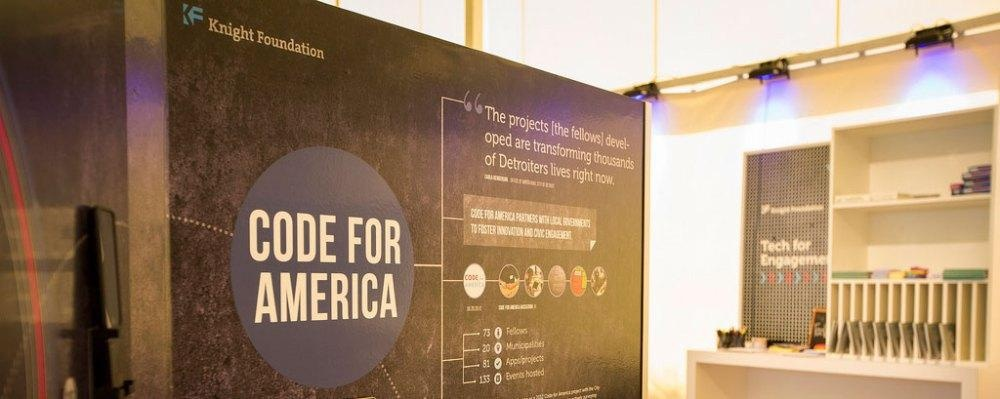text: (247, 209, 262, 265), (263, 209, 278, 265), (279, 209, 294, 265), (295, 209, 310, 265), (311, 209, 326, 265), (327, 209, 342, 265), (258, 270, 273, 326), (274, 270, 289, 326), (290, 270, 305, 326), (306, 270, 321, 326), (322, 270, 337, 326), (338, 270, 353, 326), (354, 270, 369, 326), (370, 270, 385, 326), (386, 270, 401, 326), (344, 216, 359, 265), (360, 216, 375, 265), (376, 216, 391, 265), (392, 216, 407, 265), (199, 15, 214, 49), (215, 15, 230, 49), (231, 15, 246, 49), (247, 15, 262, 49), (253, 30, 268, 63), (269, 30, 284, 63), (285, 30, 300, 63), (301, 30, 316, 63), (317, 30, 332, 63), (531, 138, 546, 168), (547, 138, 562, 168), (563, 138, 578, 168), (579, 138, 594, 168), (506, 110, 521, 138), (522, 110, 537, 138), (538, 110, 553, 138), (564, 123, 579, 151), (580, 123, 595, 151), (596, 123, 611, 151), (492, 152, 507, 177), (508, 152, 523, 177), (524, 152, 539, 177), (540, 152, 555, 177), (591, 150, 606, 174), (607, 150, 622, 174), (623, 150, 638, 174), (480, 103, 495, 126), (496, 103, 511, 126), (568, 166, 583, 188), (584, 166, 599, 188), (465, 208, 480, 230), (481, 208, 496, 230), (497, 208, 512, 230), (513, 208, 528, 230), (529, 208, 544, 230), (545, 208, 560, 230), (561, 208, 576, 230), (577, 208, 592, 230), (593, 208, 608, 230), (604, 132, 619, 153), (620, 132, 635, 153), (482, 148, 497, 169), (467, 223, 482, 244), (483, 223, 498, 244), (499, 223, 514, 244), (515, 223, 530, 244), (531, 223, 546, 244), (547, 223, 562, 244), (563, 223, 578, 244), (545, 120, 560, 140), (561, 120, 576, 140), (483, 132, 498, 152), (499, 132, 514, 152), (508, 134, 523, 154), (524, 134, 539, 154), (753, 252, 768, 271), (769, 252, 784, 271), (785, 252, 800, 271), (801, 252, 816, 271), (817, 252, 832, 271), (481, 173, 496, 192), (497, 173, 512, 192), (513, 173, 528, 192), (529, 173, 544, 192), (545, 173, 560, 192), (545, 163, 560, 181), (561, 163, 576, 181), (591, 172, 606, 190), (607, 172, 622, 190), (752, 238, 767, 256), (768, 238, 783, 256), (784, 238, 799, 256), (786, 237, 801, 255), (802, 237, 817, 255), (503, 367, 518, 383), (519, 367, 534, 383), (535, 367, 550, 383), (480, 326, 495, 341), (477, 372, 492, 386), (479, 342, 494, 355), (503, 339, 518, 352), (519, 339, 534, 352), (535, 339, 550, 352), (501, 355, 516, 368), (517, 355, 532, 368), (533, 355, 548, 368), (479, 359, 494, 371), (502, 327, 517, 337), (518, 327, 533, 337), (494, 304, 509, 312), (510, 304, 525, 312), (526, 304, 541, 312), (464, 275, 479, 281)
